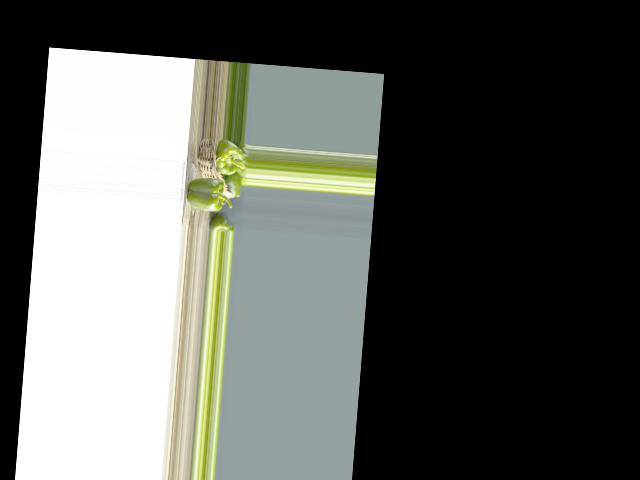bell_pepper: (213, 218, 234, 233)
